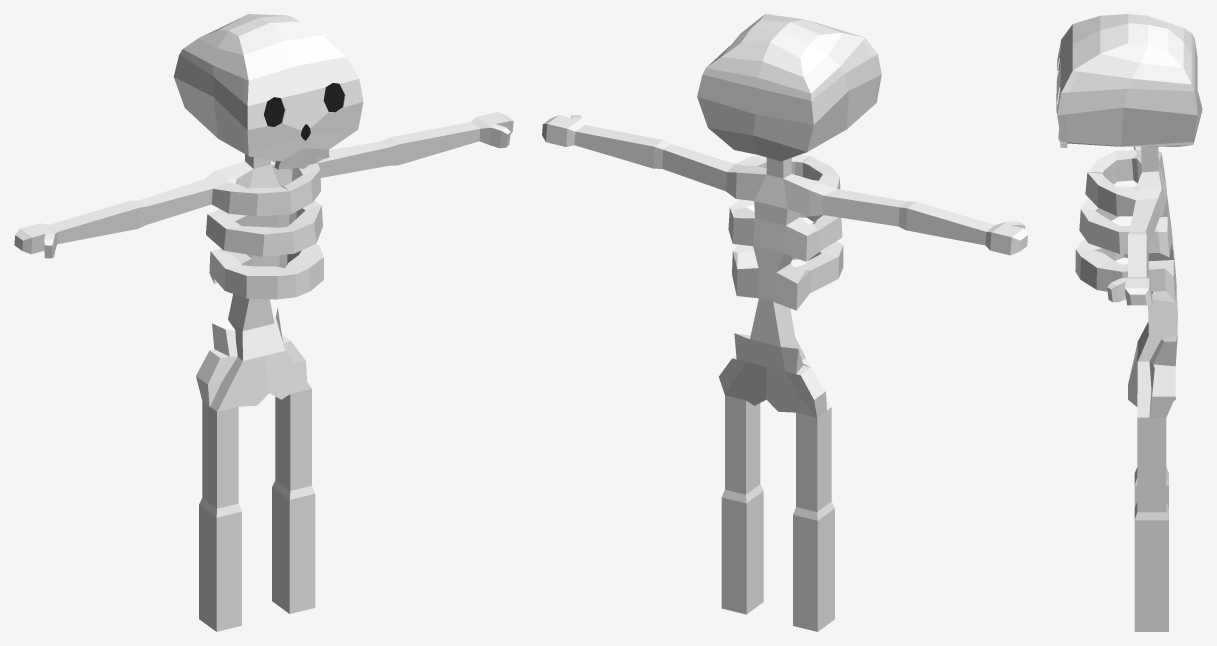
The model's file is Inimigo_esqueleto.fbx.
3 views of the same model, side by side, from view 1: azimuth 30°, elevation 25°; view 2: azimuth 150°, elevation 25°; view 3: azimuth 270°, elevation 25° (orthographic). The views are drawn at different scales.
Visible parts, largest first — view 1: Cube.002, Cube.003; view 2: Cube.002, Cube.003; view 3: Cube.002, Cube.003.
Boxes of the visible parts, bbox=[...] form: Cube.002: bbox=[14, 112, 513, 631]; Cube.003: bbox=[173, 14, 363, 169]; Cube.002: bbox=[542, 115, 1027, 631]; Cube.003: bbox=[697, 14, 881, 161]; Cube.002: bbox=[1075, 146, 1177, 631]; Cube.003: bbox=[1056, 14, 1202, 147].
Bounding box in the file's own units: 639 × 746 × 169.
